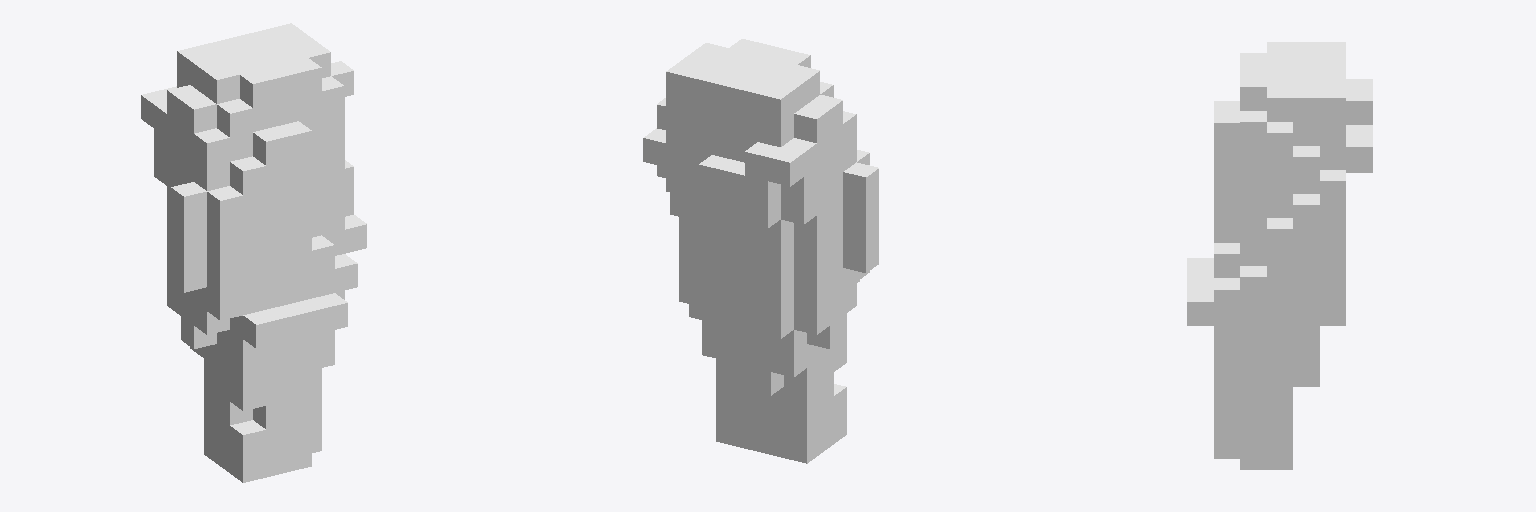
The model's file is Trevor-7.obj.
The picture shows the model from 3 angles: view 1: azimuth 30°, elevation 25°; view 2: azimuth 150°, elevation 25°; view 3: azimuth 270°, elevation 25°; orthographic projection.
Parts seen in each view (by area): view 1: object 1; view 2: object 1; view 3: object 1.
Part boxes in pixels (x1,y1,x2,y2): object 1: (141, 23, 366, 482); object 1: (643, 39, 878, 463); object 1: (1187, 42, 1372, 469).
Bounding box in the file's own units: 0.8 × 1.6 × 0.7.